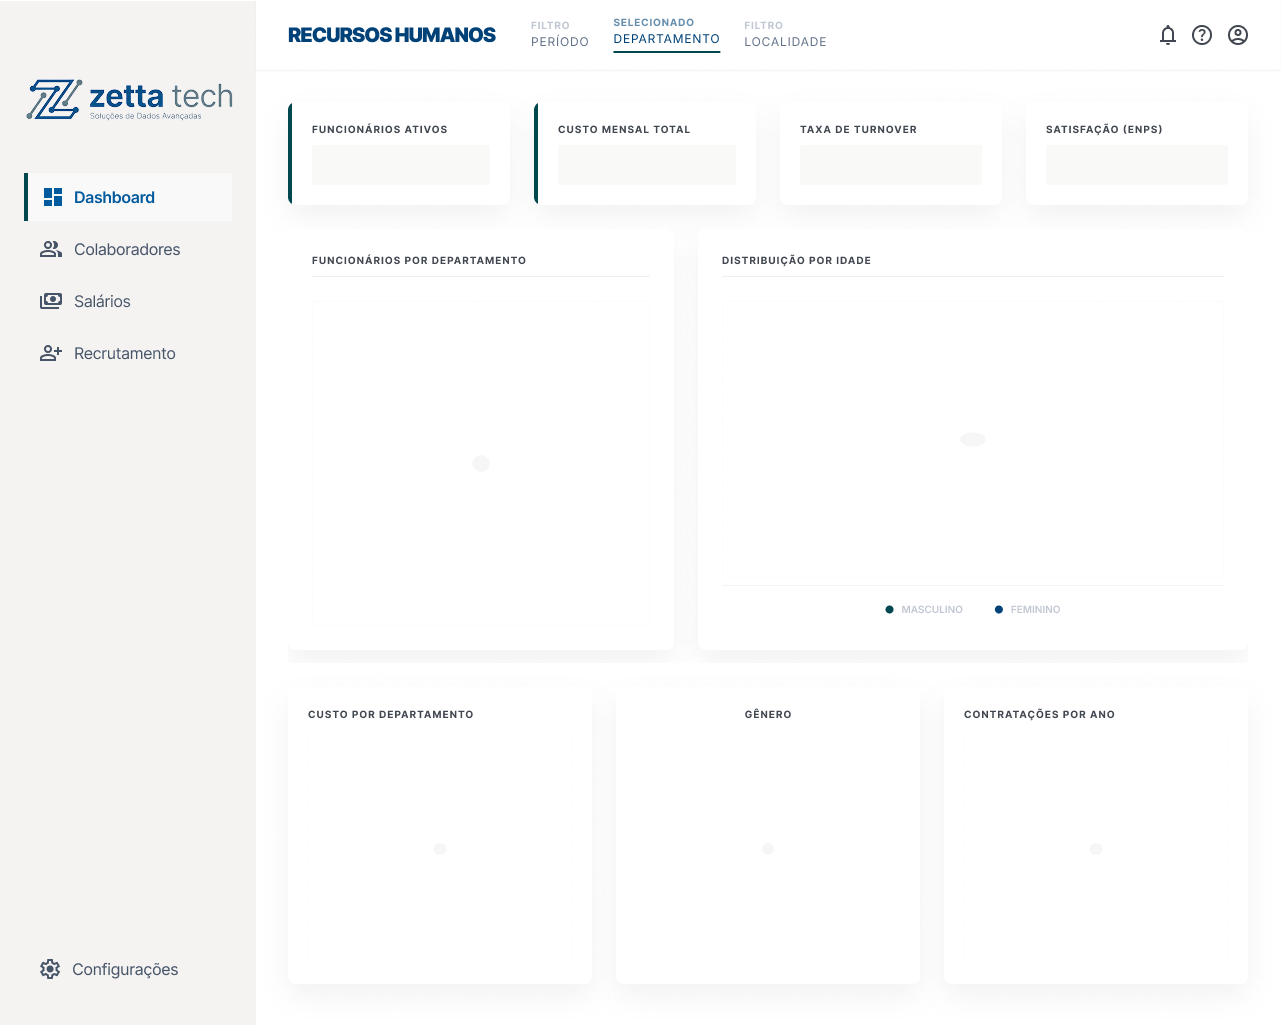

This screenshot's page, from the dashboard's own definition file:
{"tool":"powerbi","page":{"name":"Main","canvas":[1280,720],"ordinal":0},"visuals":[{"type":"slicer","fields":{"Values":["funcionarios.Data de Contratação.Variation.Hierarquia de datas.Ano"]},"box":[915.9,42.9,86.5,37.1],"z":0},{"type":"slicer","fields":{"Values":["funcionarios.Departamento"]},"box":[994.3,42.9,142.1,37.1],"z":1000},{"type":"slicer","fields":{"Values":["filiais.Cidade"]},"box":[1129.2,43.1,123.1,36.9],"z":2000},{"type":"cardVisual","fields":{"Data":["funcionarios.Funcionários Ativos"]},"box":[222.9,117.1,328.6,117.1],"z":3000},{"type":"cardVisual","fields":{"Data":["funcionarios.Custo Mensal Total"]},"box":[568.6,117.1,332.9,117.1],"z":4000},{"type":"cardVisual","fields":{"Data":["funcionarios.Taxa de Turnover (%)"]},"box":[915.7,108.6,324.3,132.9],"z":5000},{"type":"barChart","fields":{"Category":["funcionarios.Departamento"],"Y":["funcionarios.Funcionários Ativos"]},"box":[244.3,281.4,477.1,220],"z":6000},{"type":"columnChart","fields":{"Category":["funcionarios.Faixa de Idade"],"Y":["funcionarios.Funcionários Ativos"],"Series":["funcionarios.Gênero"]},"box":[767.1,281.4,472.9,220],"z":7000},{"type":"clusteredBarChart","fields":{"Category":["funcionarios.Departamento"],"Y":["funcionarios.Custo Mensal Total"]},"box":[244.3,555.7,307.1,135.7],"z":8000},{"type":"donutChart","fields":{"Category":["funcionarios.Gênero"],"Y":["funcionarios.Funcionários Ativos"]},"box":[587.1,517.1,297.1,188.6],"z":9000},{"type":"lineChart","fields":{"Category":["funcionarios.Data de Contratação.Variation.Hierarquia de datas.Ano"],"Y":["funcionarios.Qtd Funcionários"]},"box":[931.4,555.7,308.6,135.7],"z":10000}]}

Visuals, with their boxes on the page's 1280x720 design canvas (x1, y1, x2, y2). These are canvas units, not pixel positions in the 1282x1025 screenshot, which may show the page scaled, cropped or inside an application window:
slicer - funcionarios.Data de Contratação.Variation.Hierarquia de datas.Ano: x1=916, y1=43, x2=1002, y2=80
slicer - funcionarios.Departamento: x1=994, y1=43, x2=1136, y2=80
slicer - filiais.Cidade: x1=1129, y1=43, x2=1252, y2=80
cardVisual - funcionarios.Funcionários Ativos: x1=223, y1=117, x2=552, y2=234
cardVisual - funcionarios.Custo Mensal Total: x1=569, y1=117, x2=902, y2=234
cardVisual - funcionarios.Taxa de Turnover (%): x1=916, y1=109, x2=1240, y2=242
barChart - funcionarios.Departamento x funcionarios.Funcionários Ativos: x1=244, y1=281, x2=721, y2=501
columnChart - funcionarios.Faixa de Idade x funcionarios.Funcionários Ativos: x1=767, y1=281, x2=1240, y2=501
clusteredBarChart - funcionarios.Departamento x funcionarios.Custo Mensal Total: x1=244, y1=556, x2=551, y2=691
donutChart - funcionarios.Gênero x funcionarios.Funcionários Ativos: x1=587, y1=517, x2=884, y2=706
lineChart - funcionarios.Data de Contratação.Variation.Hierarquia de datas.Ano x funcionarios.Qtd Funcionários: x1=931, y1=556, x2=1240, y2=691
